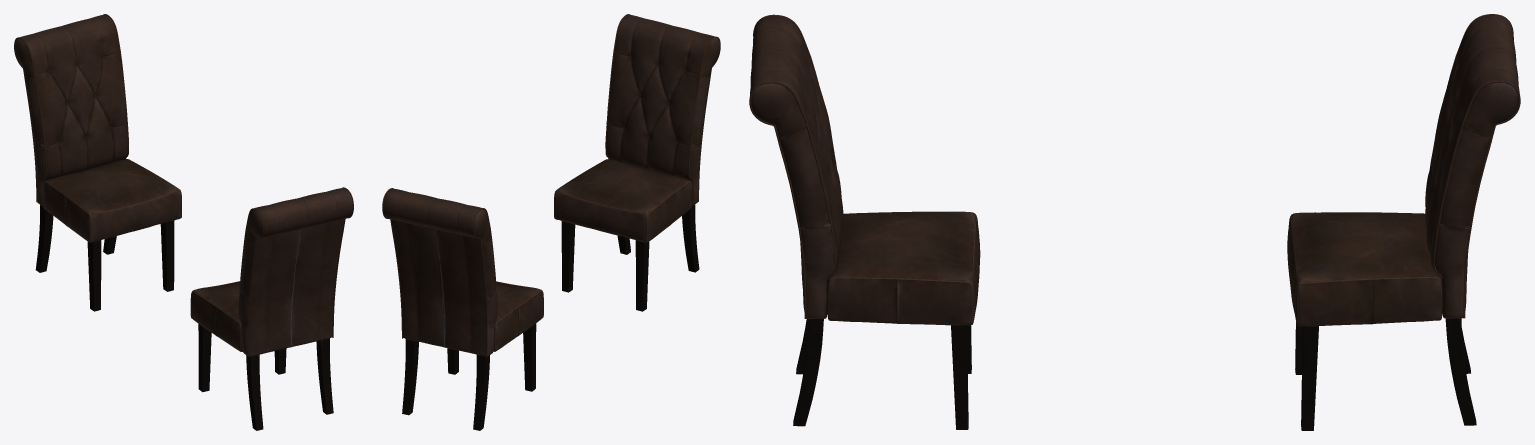
The model's file is stuehle.glb.
The picture shows the model from 3 angles, left to right: view 1: azimuth 30°, elevation 25°; view 2: azimuth 150°, elevation 25°; view 3: azimuth 270°, elevation 25°; orthographic projection. The views are drawn at different scales.
Visible parts, largest first — view 1: dining_chair_02.001, dining_chair_02; view 2: dining_chair_02, dining_chair_02.001; view 3: dining_chair_02.001, dining_chair_02.
Part boxes in pixels (box(x1,y1,x2,y2)): dining_chair_02.001: box(14, 14, 181, 311); dining_chair_02: box(190, 187, 353, 430); dining_chair_02: box(554, 14, 720, 311); dining_chair_02.001: box(382, 188, 543, 430); dining_chair_02.001: box(1287, 14, 1520, 430); dining_chair_02: box(749, 14, 980, 429).
Bounding box in the file's own units: 0.4506 × 0.9734 × 1.95.
Materials: 2 (2 with a texture image).
